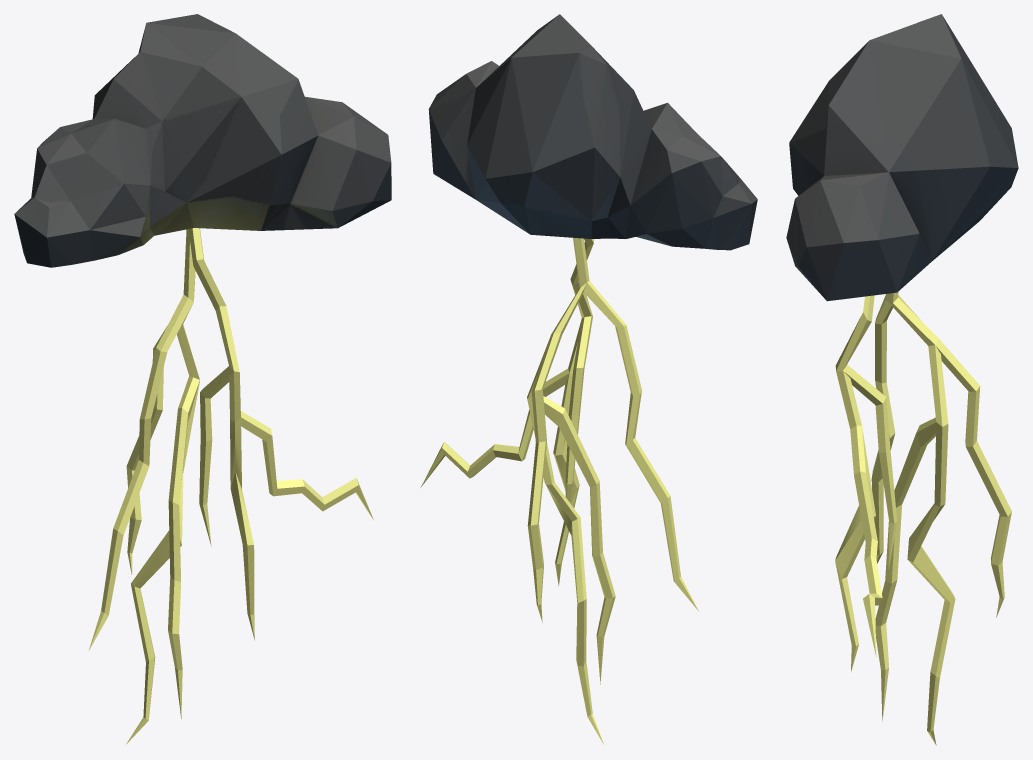
The model's file is cloud-lightning.glb.
3 views of the same model, side by side, from view 1: azimuth 30°, elevation 25°; view 2: azimuth 150°, elevation 25°; view 3: azimuth 270°, elevation 25° (orthographic). The views are drawn at different scales.
Parts seen in each view (by area): view 1: lightning_bolt; view 2: lightning_bolt; view 3: lightning_bolt.
Boxes of the visible parts, <box> form: lightning_bolt: <box>14,14,391,744</box>; lightning_bolt: <box>420,14,757,744</box>; lightning_bolt: <box>786,14,1018,745</box>.
Size of the model in its own units: 5.62 by 10.93 by 3.08.
Materials: 1 (1 with a texture image).
